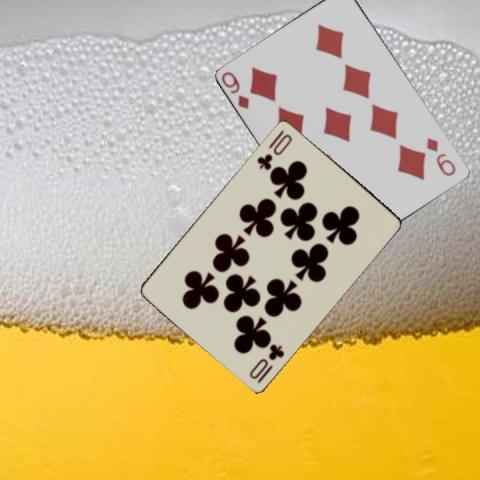10c: (254, 126, 294, 171), (246, 340, 286, 385)
9d: (423, 135, 458, 178), (218, 68, 251, 111)
